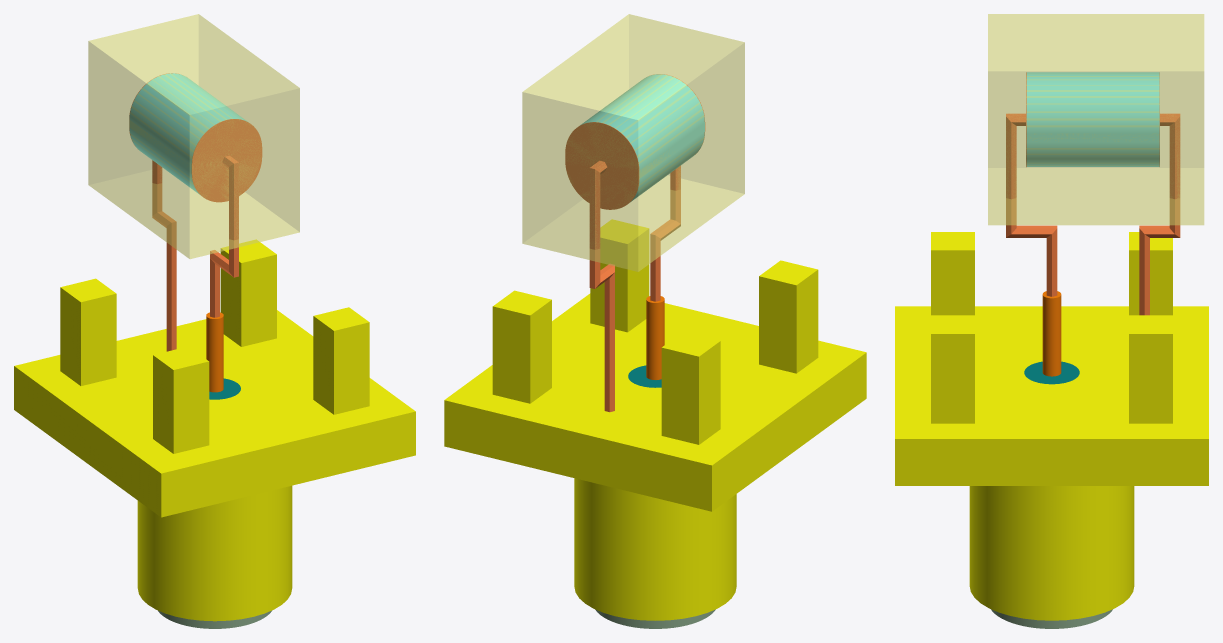
The model's file is KondentsTxiki.glb.
The picture shows the model from 3 angles, left to right: view 1: azimuth 30°, elevation 25°; view 2: azimuth 150°, elevation 25°; view 3: azimuth 270°, elevation 25°; orthographic projection. The views are drawn at different scales.
Parts seen in each view (by area): view 1: COMPOUND006, COMPOUND010, COMPOUND009, COMPOUND011, COMPOUND005, COMPOUND007, COMPOUND003, COMPOUND, COMPOUND004, COMPOUND002; view 2: COMPOUND006, COMPOUND010, COMPOUND009, COMPOUND001, COMPOUND005, COMPOUND002, COMPOUND007, COMPOUND004, COMPOUND, COMPOUND003; view 3: COMPOUND006, COMPOUND010, COMPOUND009, COMPOUND002, COMPOUND007, COMPOUND003, COMPOUND004, COMPOUND005, COMPOUND, COMPOUND008.
Part boxes in pixels (x1,y1,x2,y2): COMPOUND006: (14,239,415,621); COMPOUND010: (88,14,299,258); COMPOUND009: (129,73,247,194); COMPOUND011: (191,119,262,202); COMPOUND005: (159,215,176,351); COMPOUND007: (206,312,223,392); COMPOUND003: (222,155,238,277); COMPOUND: (158,610,272,628); COMPOUND004: (210,250,228,317); COMPOUND002: (152,160,165,223); COMPOUND006: (444,219,866,620); COMPOUND010: (522,14,744,271); COMPOUND009: (580,74,704,201); COMPOUND001: (565,122,639,209); COMPOUND005: (600,264,614,412); COMPOUND002: (589,161,607,288); COMPOUND007: (646,296,664,379); COMPOUND004: (650,220,677,301); COMPOUND: (595,609,715,628); COMPOUND003: (670,165,680,229); COMPOUND006: (895,232,1208,620); COMPOUND010: (988,14,1204,225); COMPOUND009: (1026,72,1159,166); COMPOUND002: (1160,113,1180,237); COMPOUND007: (1042,291,1061,376); COMPOUND003: (1006,113,1025,237); COMPOUND004: (1017,225,1057,296); COMPOUND005: (1139,225,1159,315); COMPOUND: (991,609,1112,628); COMPOUND008: (1024,361,1079,384).
Bounding box in the file's own units: 0.0102 × 0.02 × 0.0102.
